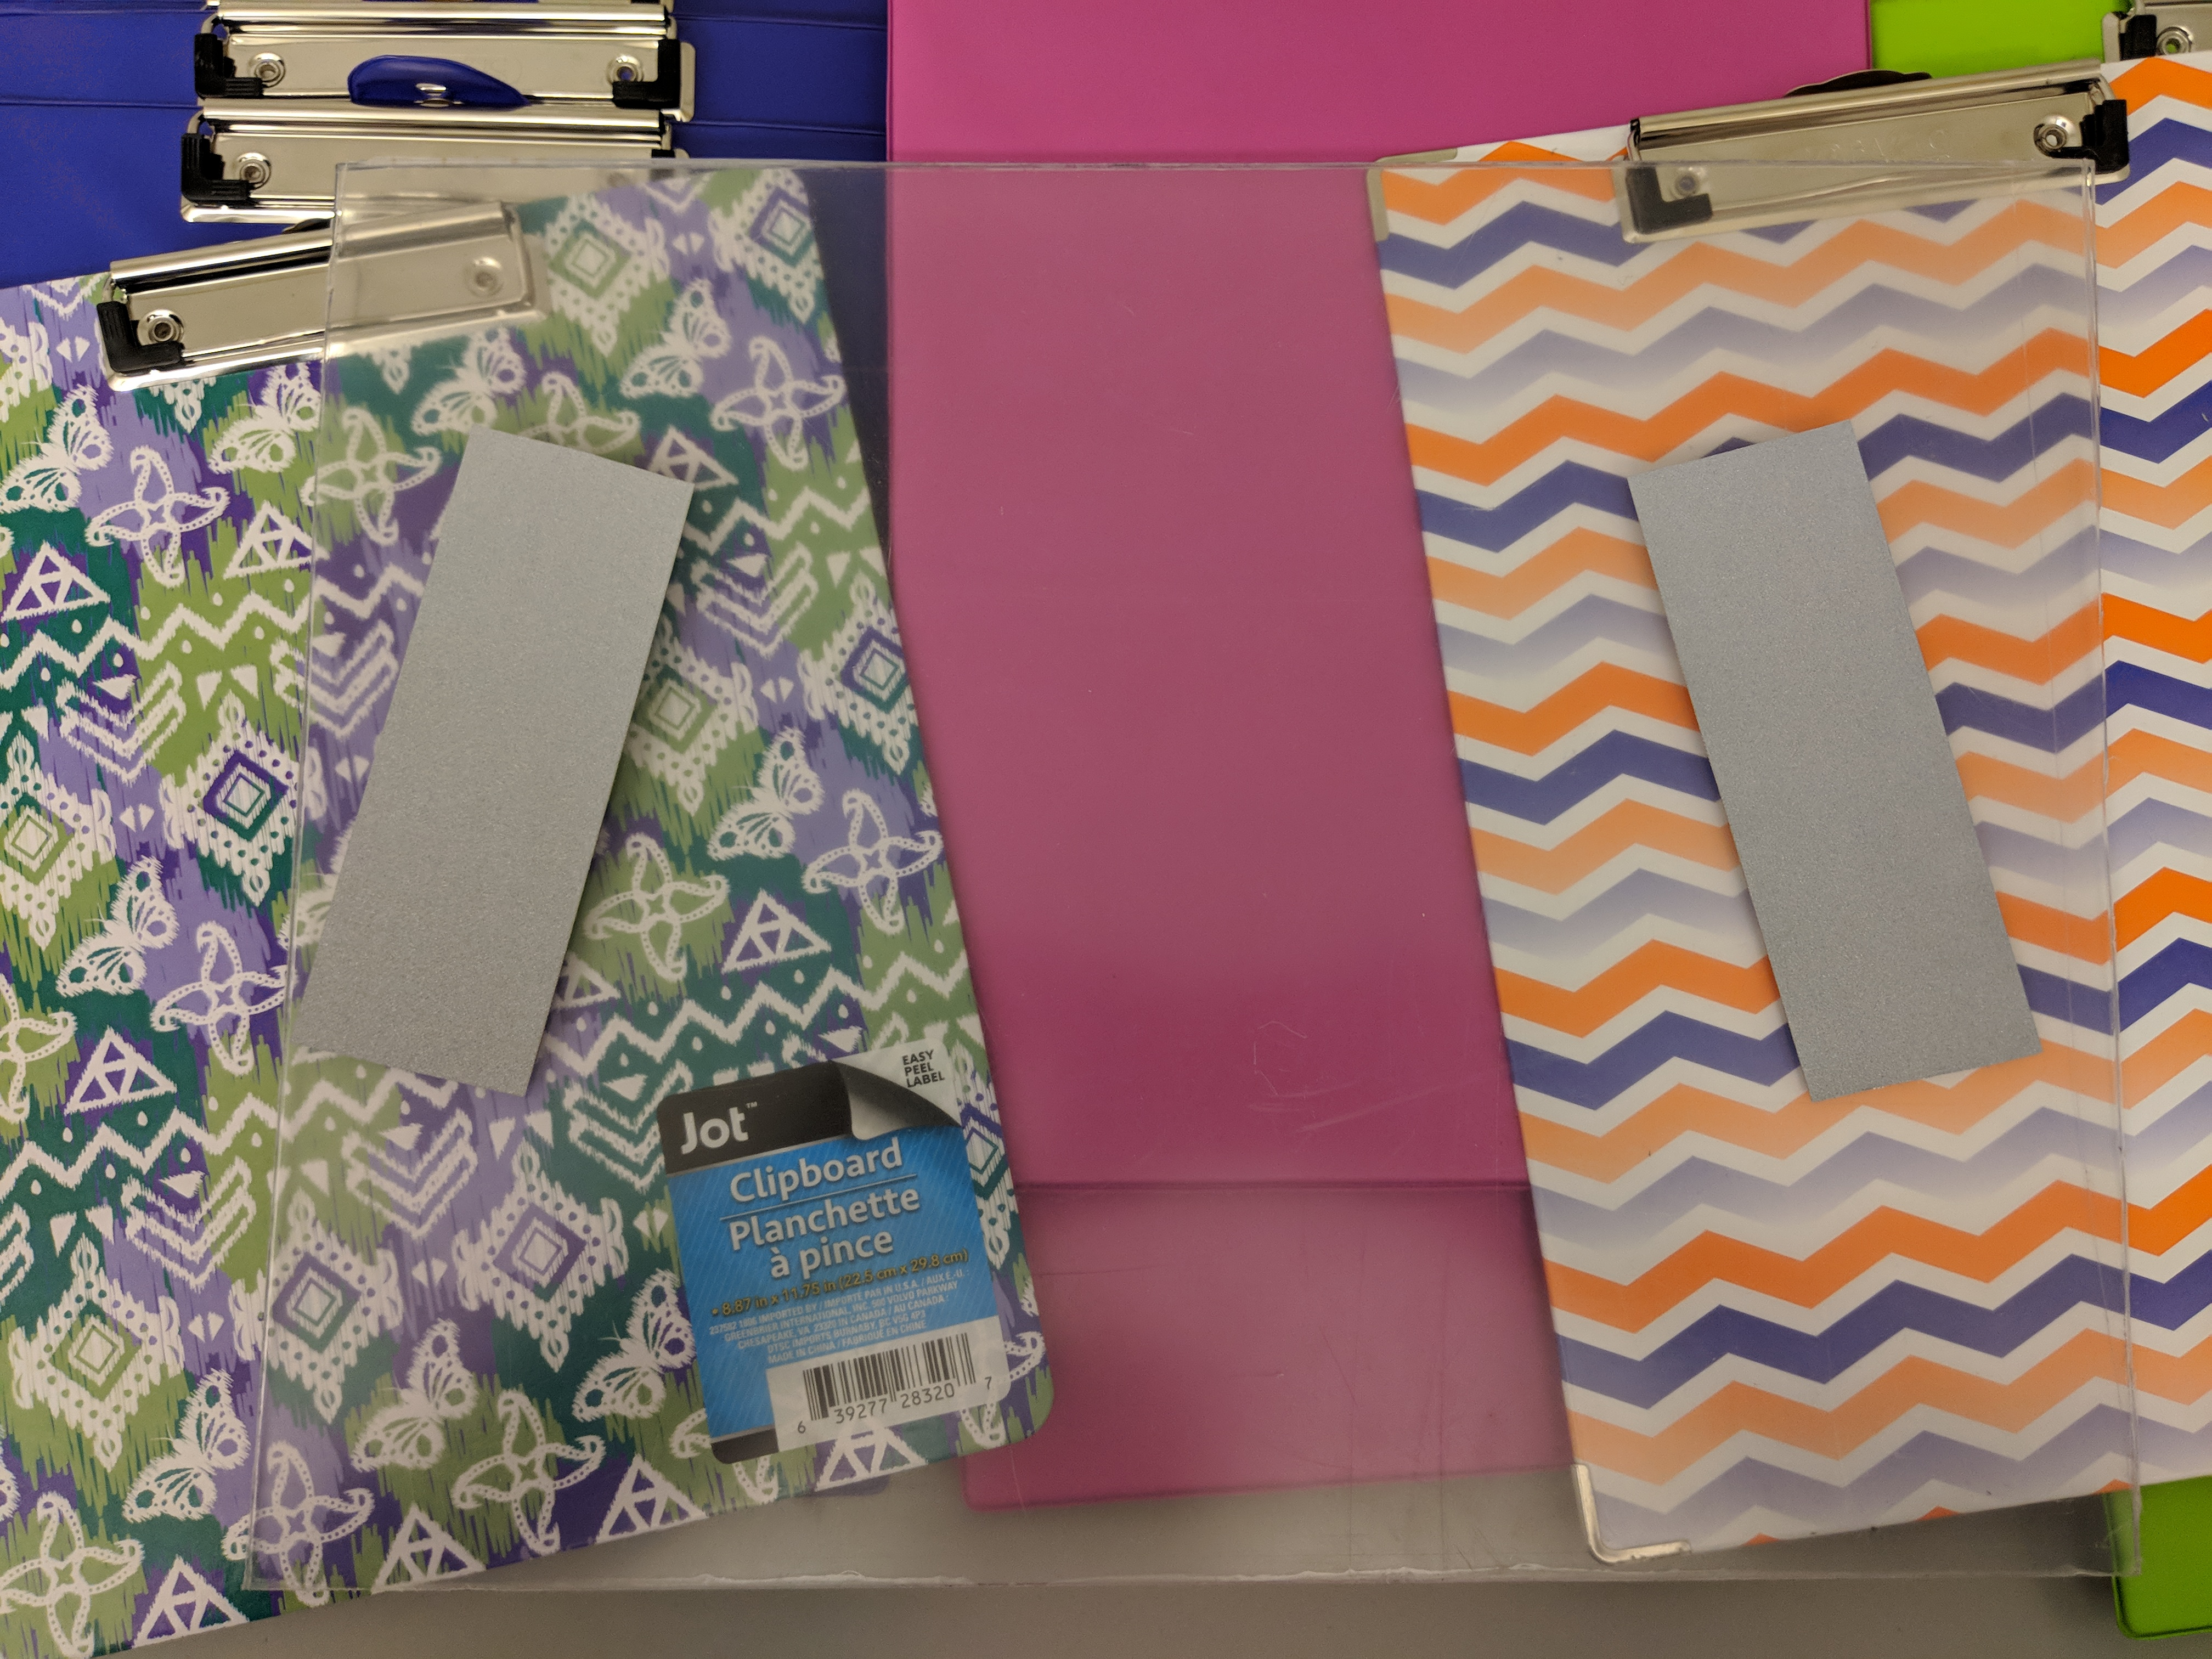vision_target: (289, 404, 2059, 1110)
